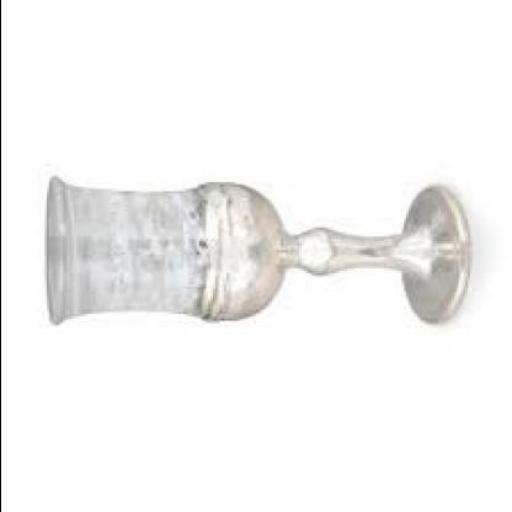glass: (43, 173, 469, 323)
